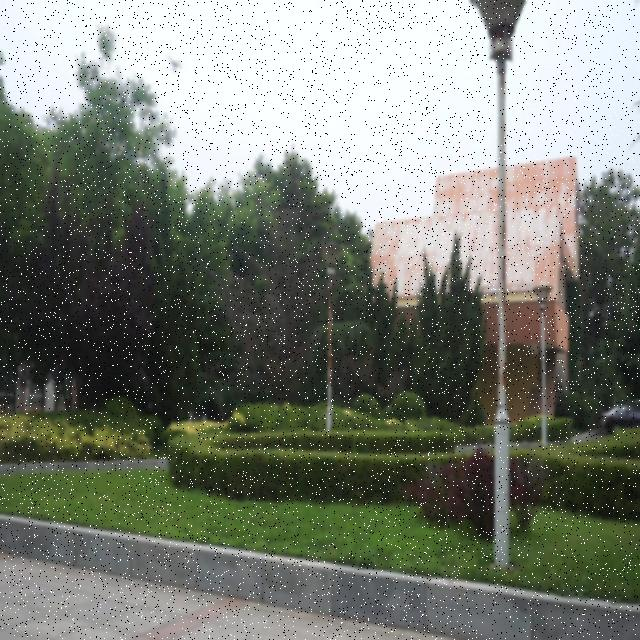UAV: (164, 55, 186, 74)
